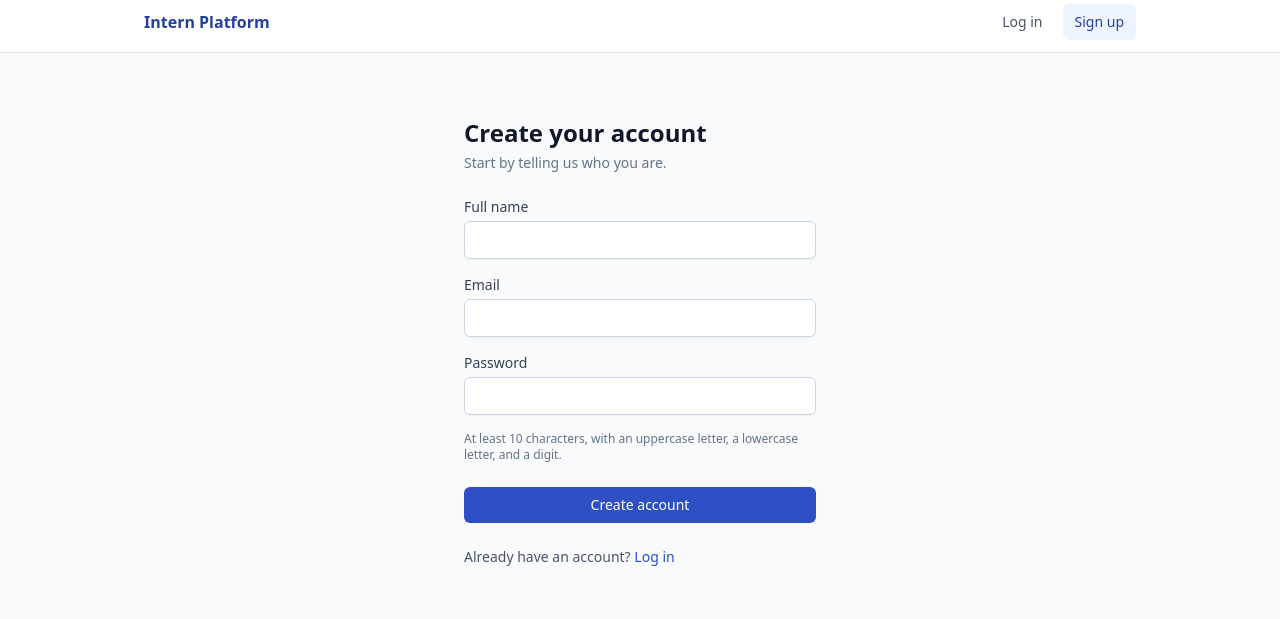
App routing + auth › shows the specific validation reason on a failed registration instead of the generic top-level message
Expected: the heading "Create your account" is shown, [464, 116, 707, 149]
Type "New Student" into the field labelled "Full name" at (640, 240), box [464, 221, 816, 259]
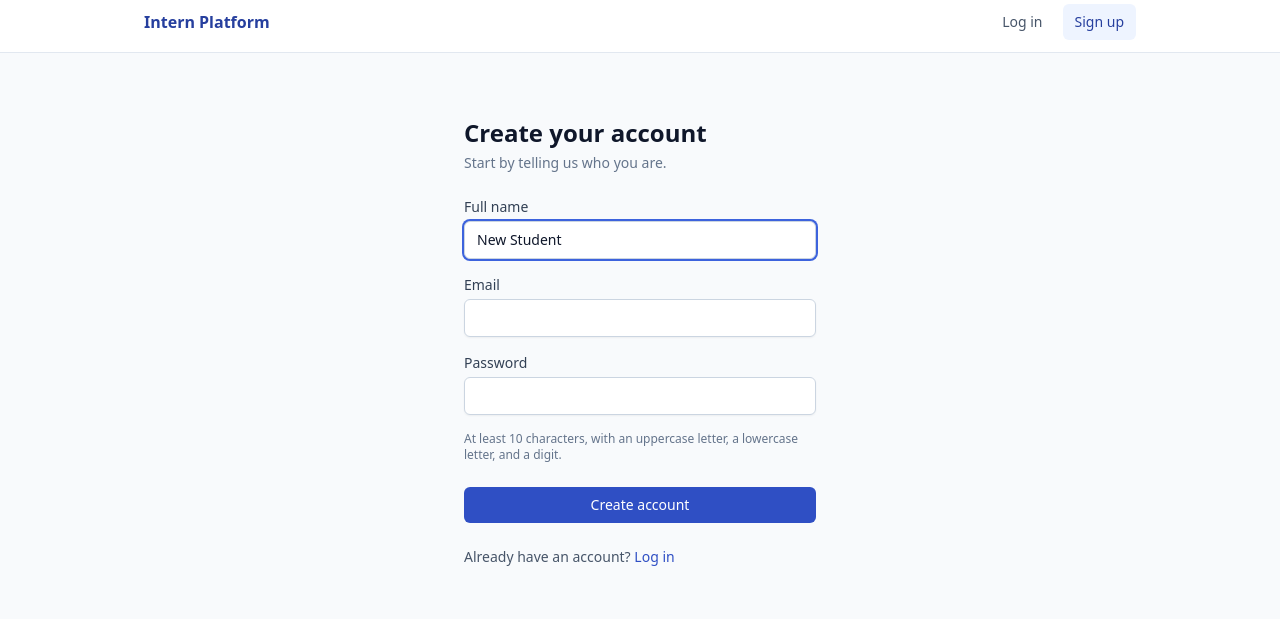
Type "new@example.com" into the field labelled "Email" at (640, 318), box [464, 299, 816, 337]
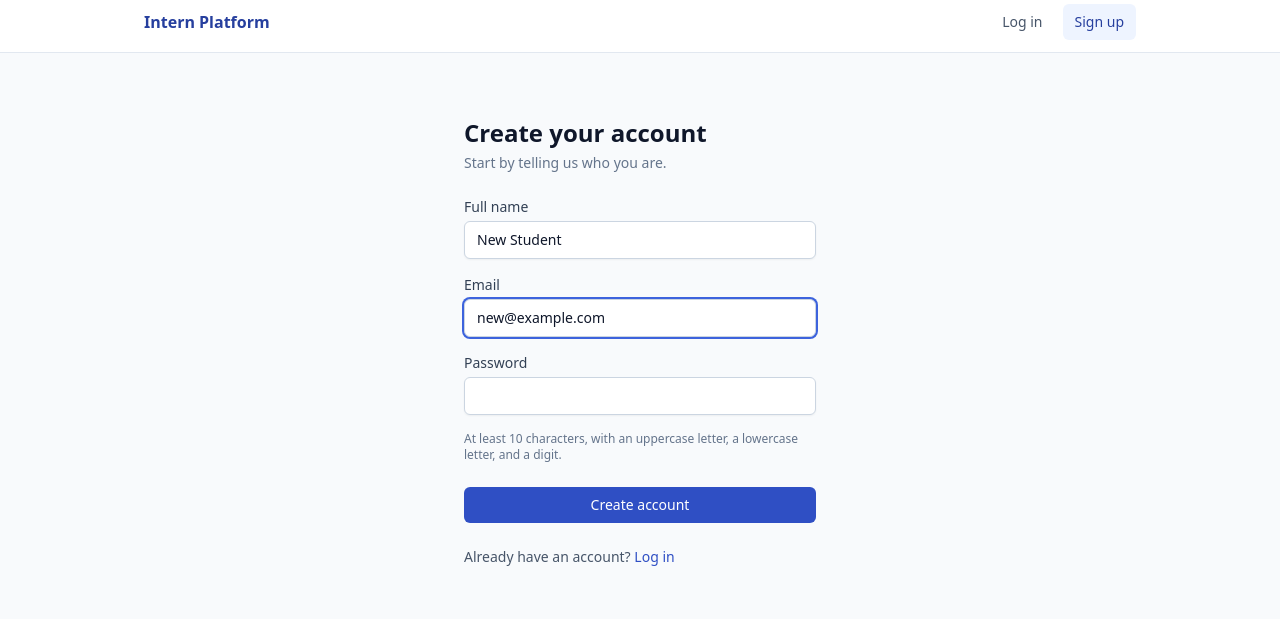
Type "StrongPass1" into the password field labelled "Password" at (640, 396), box [464, 377, 816, 415]
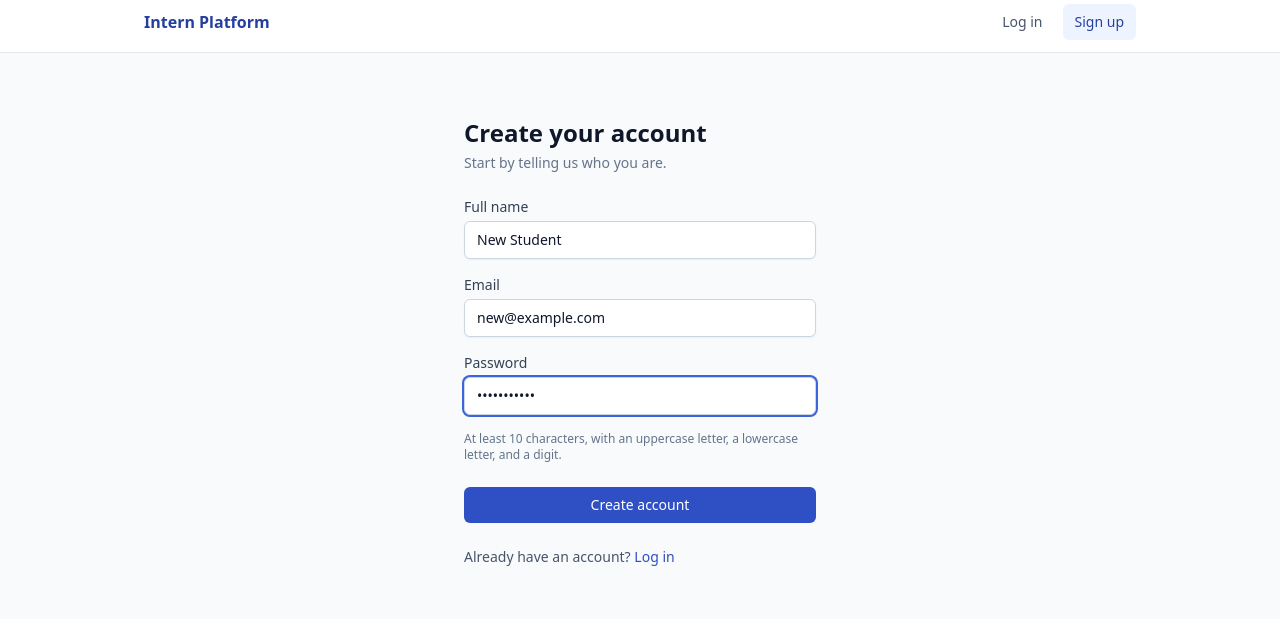
Click the button "Create account" at (640, 505), box [464, 487, 816, 523]
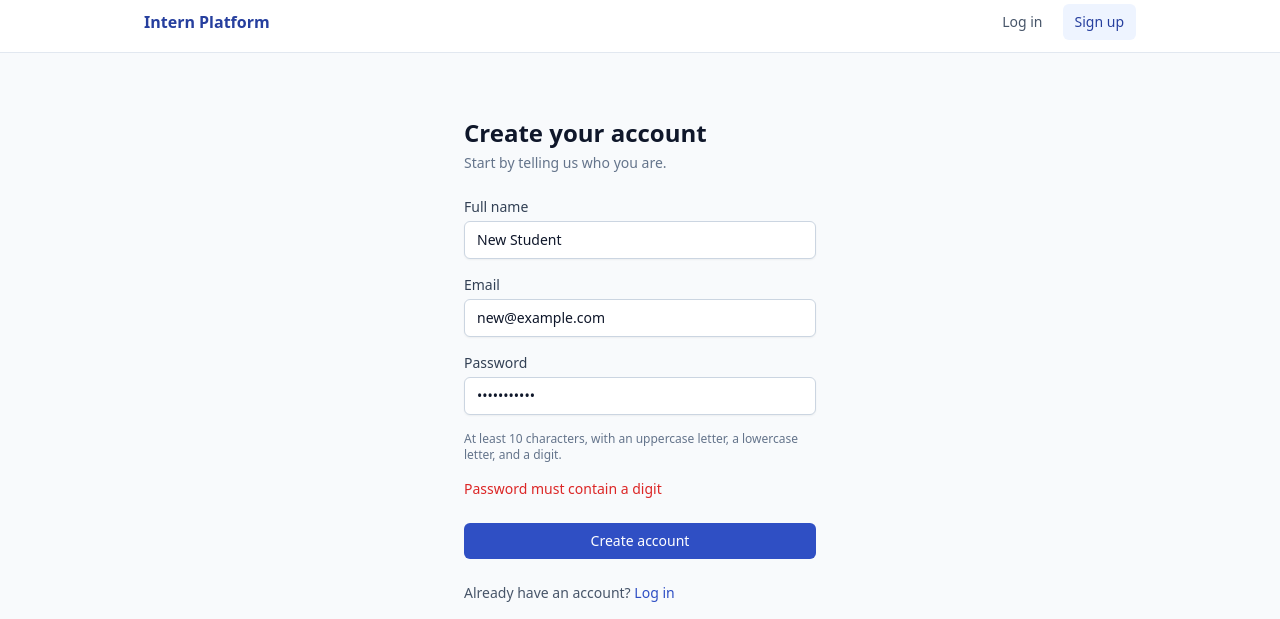
Result: the text "Password must contain a digit" is shown at [464, 479, 662, 498]
